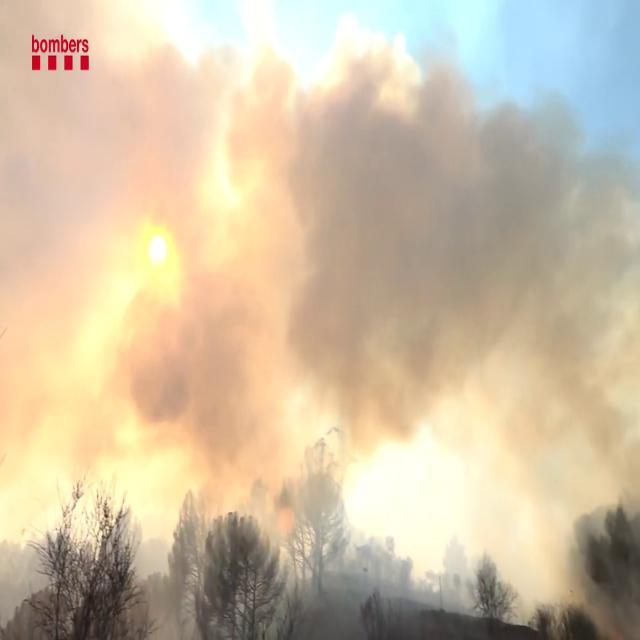Fire: (1, 1, 640, 602)
Smoke: (6, 1, 640, 604)
